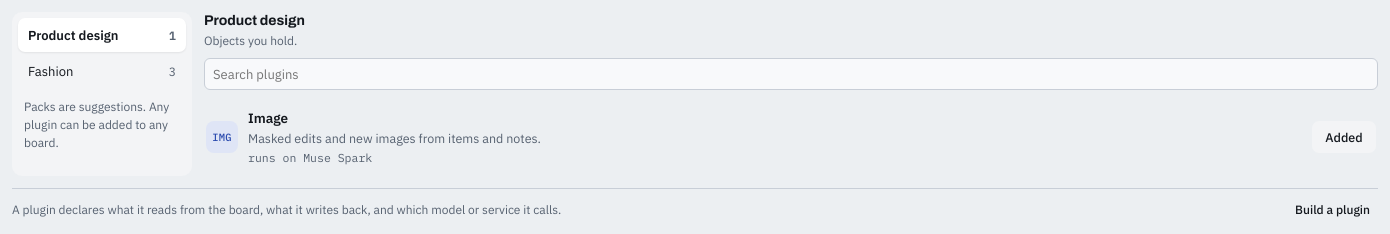
PluginsPanel › Added removes the plugin from the board again
Click the button named "Added Image" at (1344, 137), box left=1312, top=121, right=1376, bottom=153
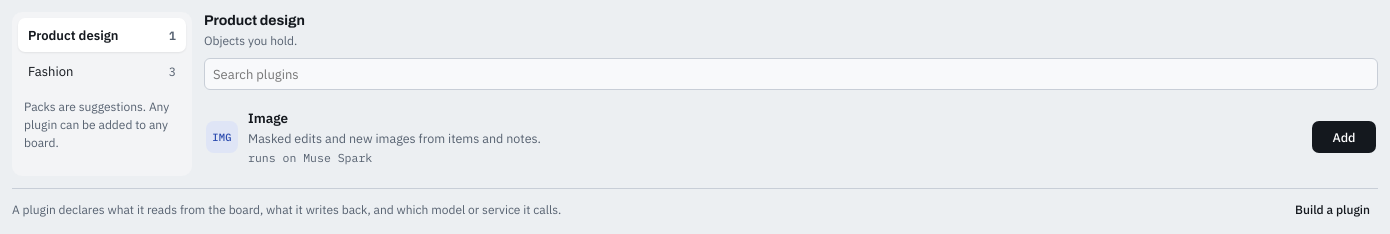
Result: the button named "Add Image" is shown at left=1312, top=121, right=1376, bottom=153
